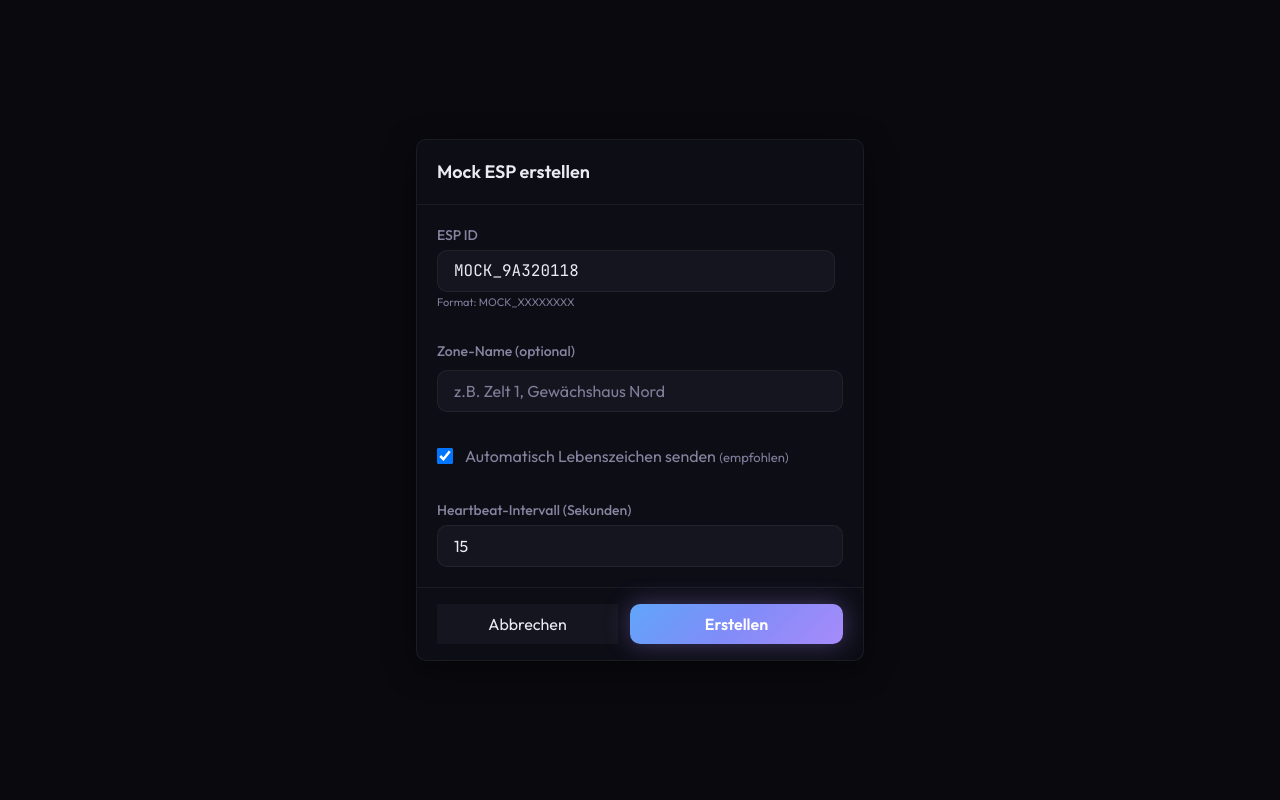
Test case: CreateMockEspModal › create button state › create button is disabled when ESP ID is empty
Clear the 1st field: (636, 271) [437,250,835,292]
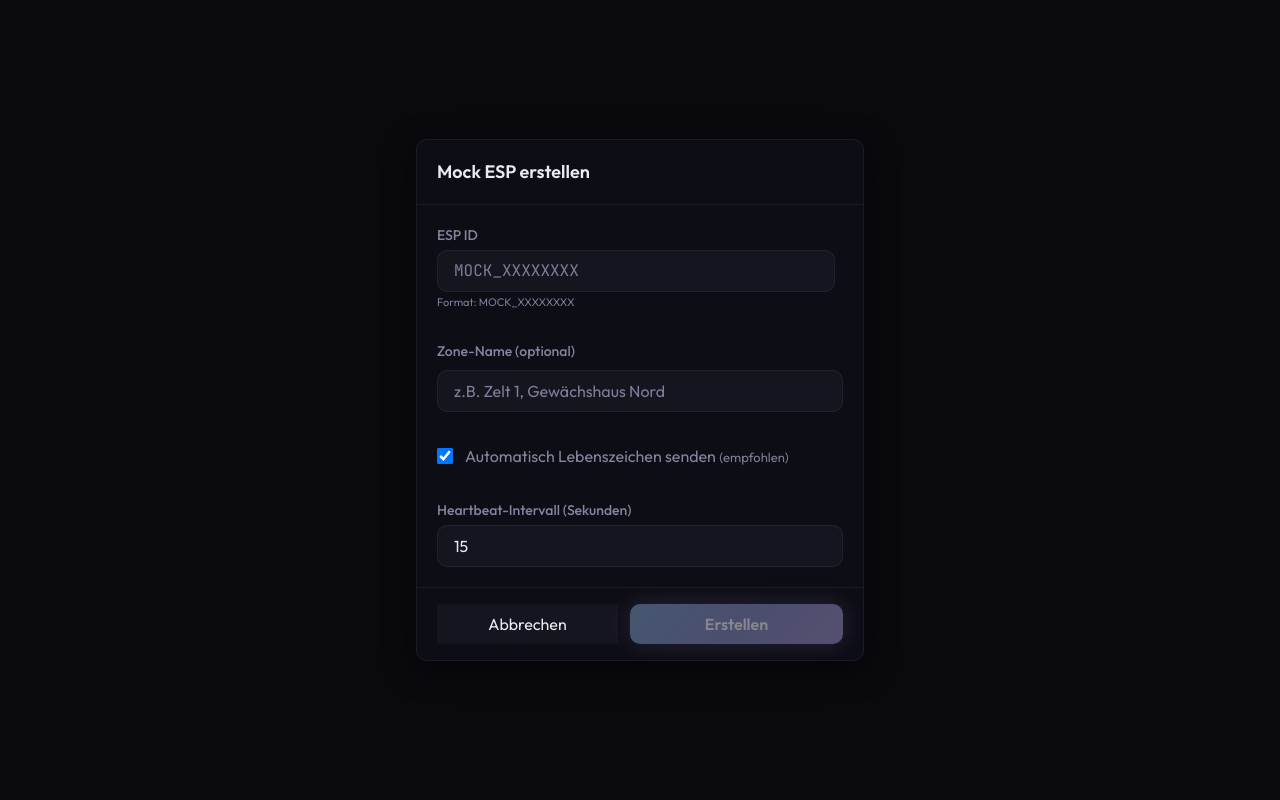
Expected: the button "Erstellen" is disabled, [630,604,843,644]
